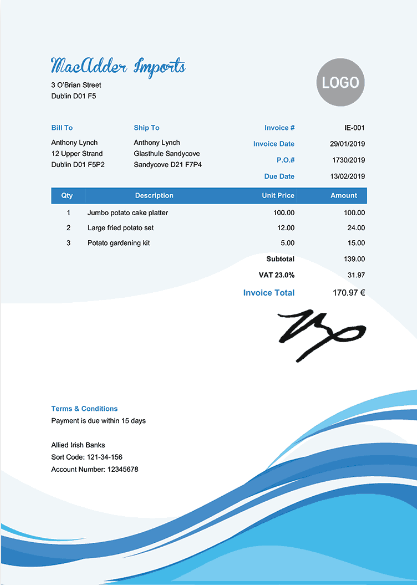Table: (34, 181, 385, 306)
